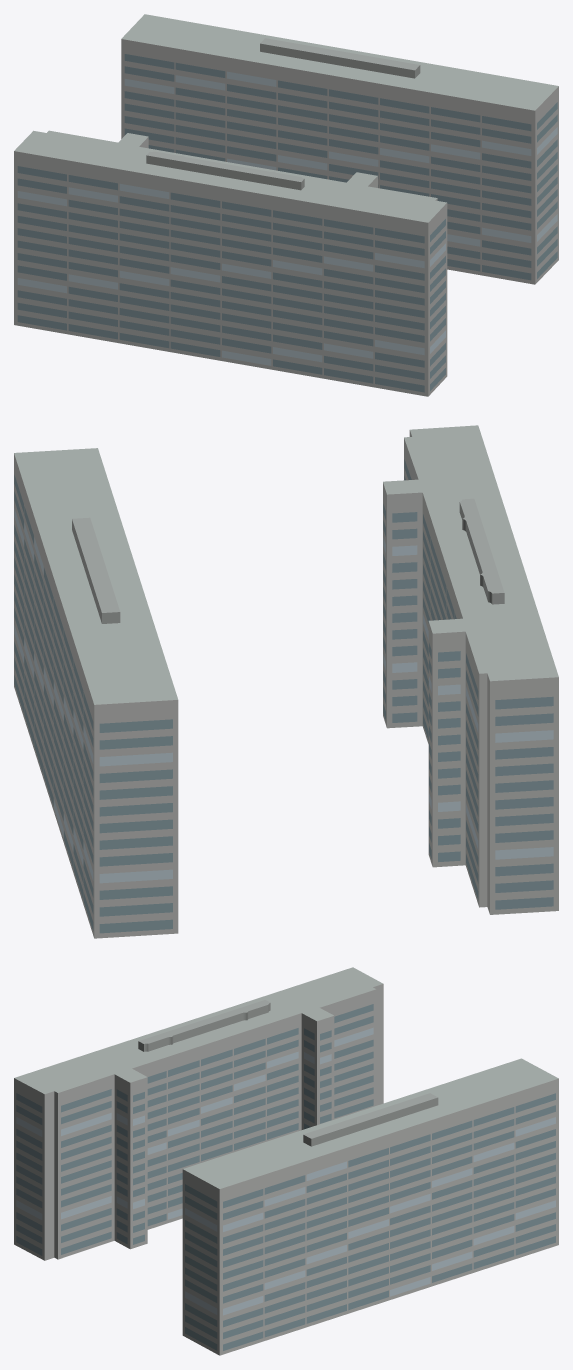
File: apt-a15001004.glb
3 views of the same model, one above another, from view 1: azimuth 30°, elevation 25°; view 2: azimuth 150°, elevation 25°; view 3: azimuth 270°, elevation 25° (orthographic). The views are drawn at different scales.
Visible parts, largest first — view 1: apt-a15001004; view 2: apt-a15001004; view 3: apt-a15001004.
Part boxes in pixels (x1,y1,x2,y2): apt-a15001004: (14, 14, 558, 396); apt-a15001004: (14, 425, 558, 938); apt-a15001004: (14, 967, 558, 1355).
Size of the model in its own units: 115 by 42 by 119.
